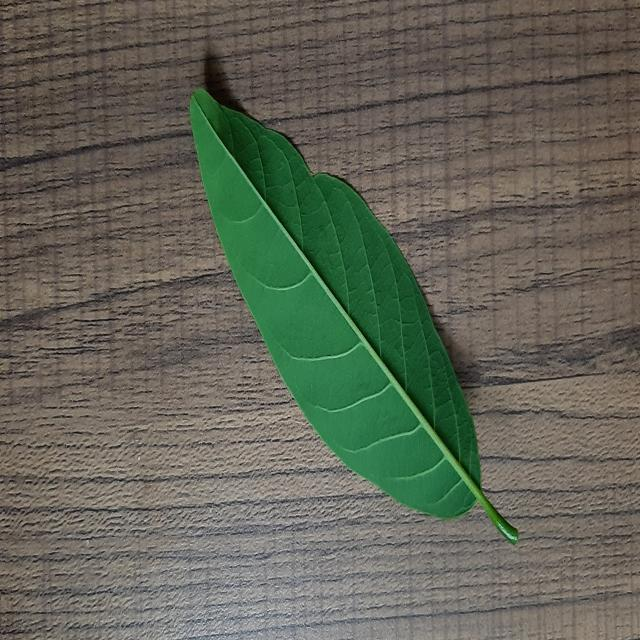leaf: (187, 86, 518, 544)
